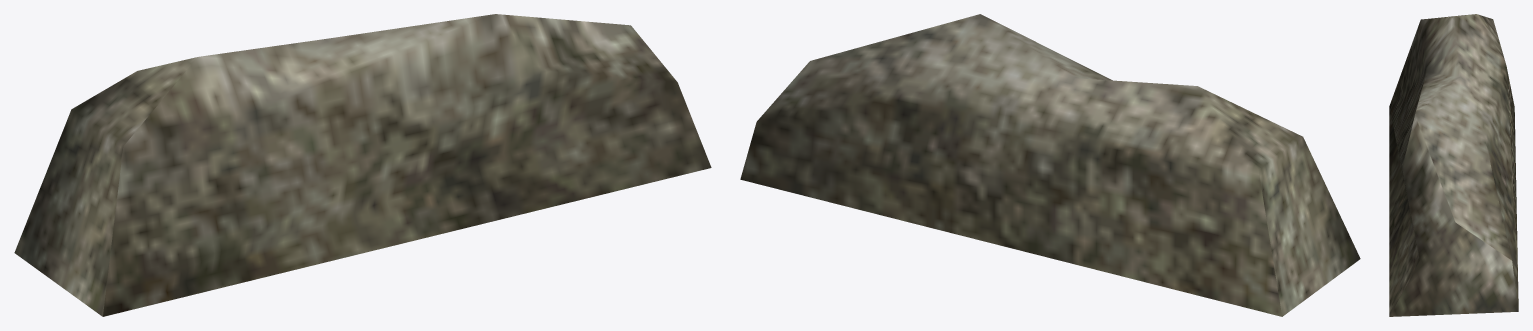
File: b_general_obj_16.fbx
The picture shows the model from 3 angles, left to right: view 1: azimuth 30°, elevation 25°; view 2: azimuth 150°, elevation 25°; view 3: azimuth 270°, elevation 25°; orthographic projection. The views are drawn at different scales.
Parts seen in each view (by area): view 1: Object03; view 2: Object03; view 3: Object03.
Part boxes in pixels (box(x1,y1,x2,y2)): Object03: box(14, 14, 711, 316); Object03: box(740, 14, 1360, 316); Object03: box(1389, 14, 1518, 316).
Bounding box in the file's own units: 1.81 × 0.5534 × 0.4715.
